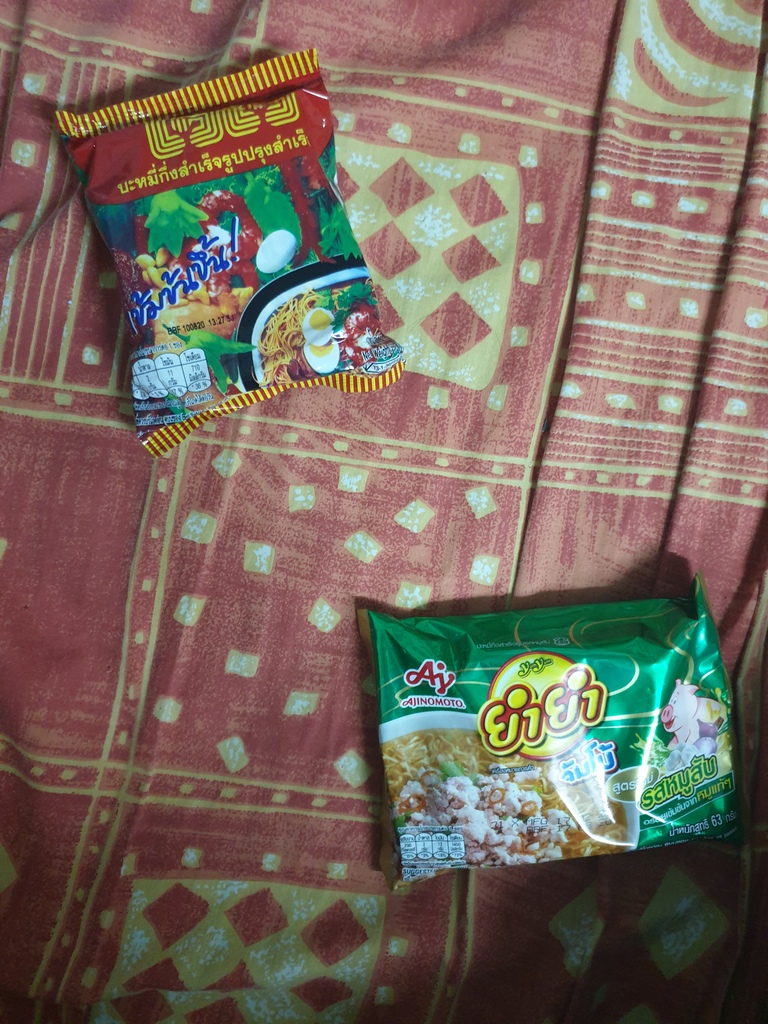waiwai: (51, 79, 429, 418)
yumyum: (360, 569, 754, 876)
